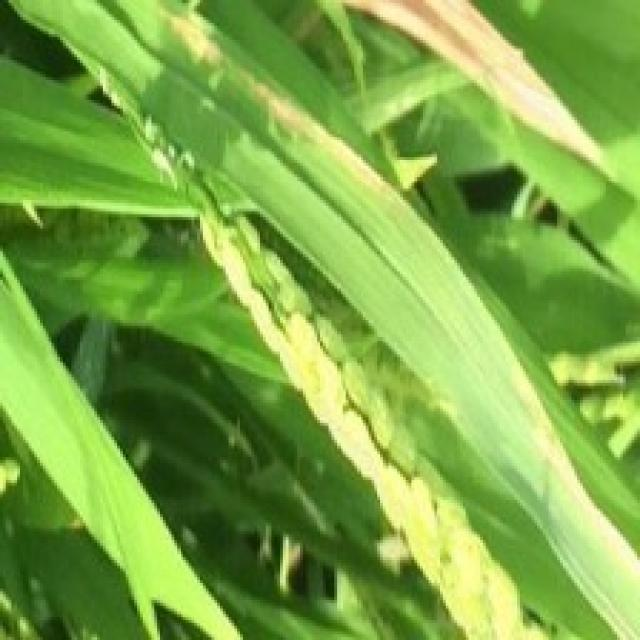Rice___Bacterial_Leaf_Blight: (3, 0, 637, 637)
